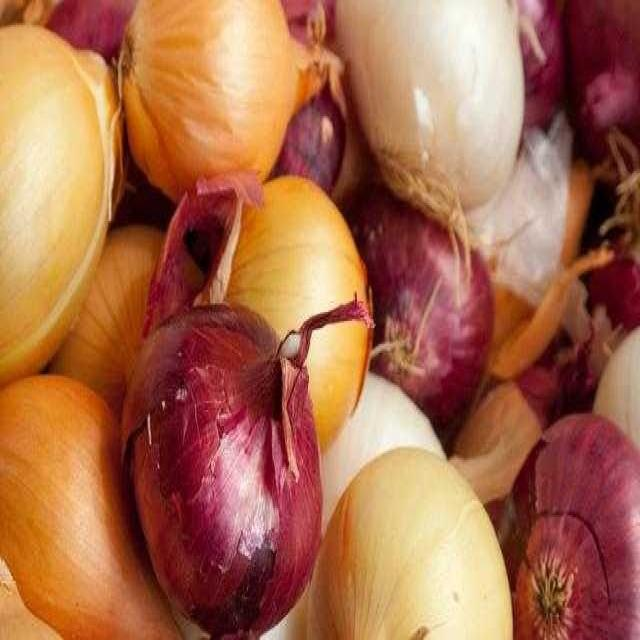Onion: (120, 280, 330, 640)
